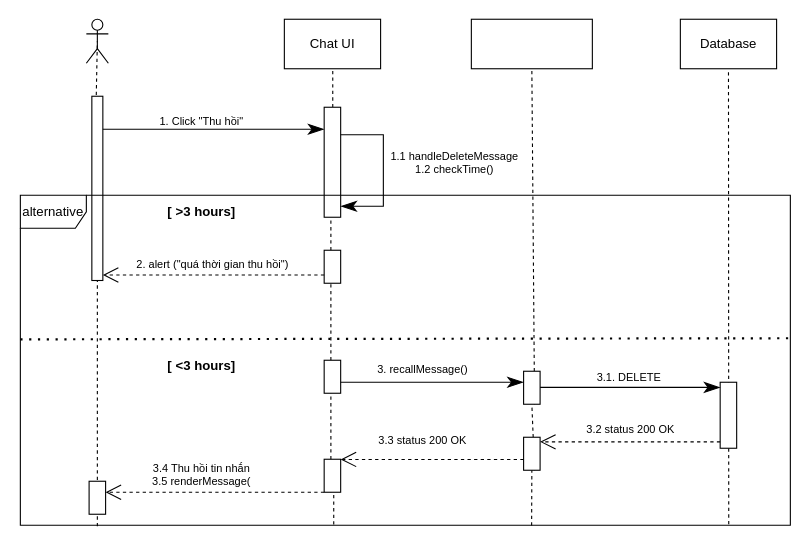
This 811x547 diagram has some shape labels left out. Here are the shapes that lost their labels. From the top down, the centre of each, then its label:
the point at 96,40: User
the point at 531,43: Supabase Client
